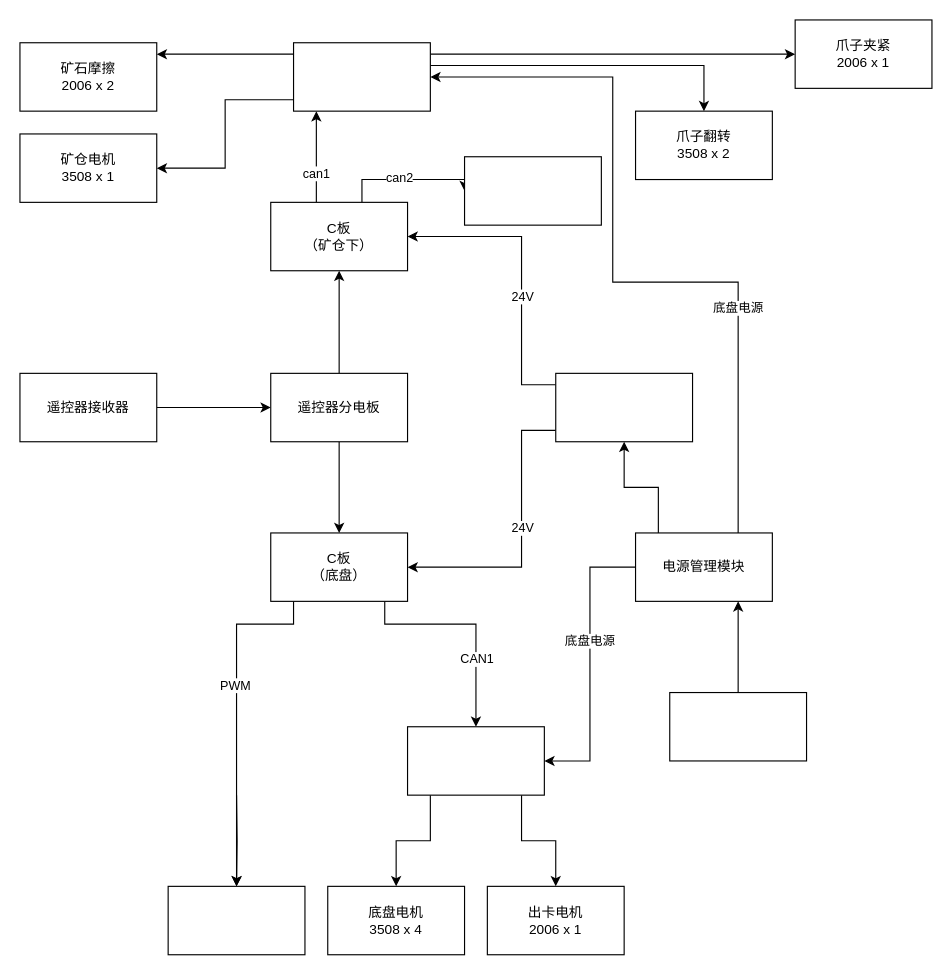
Some shapes in this 952 by 975 pixel diagram are drawn without their labels. Here are the shapes that lost their labels. From the top down, the centre of each, then its label:
At (x=361, y=76): "顶部中心板".
At (x=532, y=190): "抬升 3508 x 2".
At (x=624, y=407): "MINI PC电源分电板".
At (x=738, y=726): "官方电池24V".
At (x=475, y=760): "底盘中心板".
At (x=236, y=920): "救援舵机 x 2".
